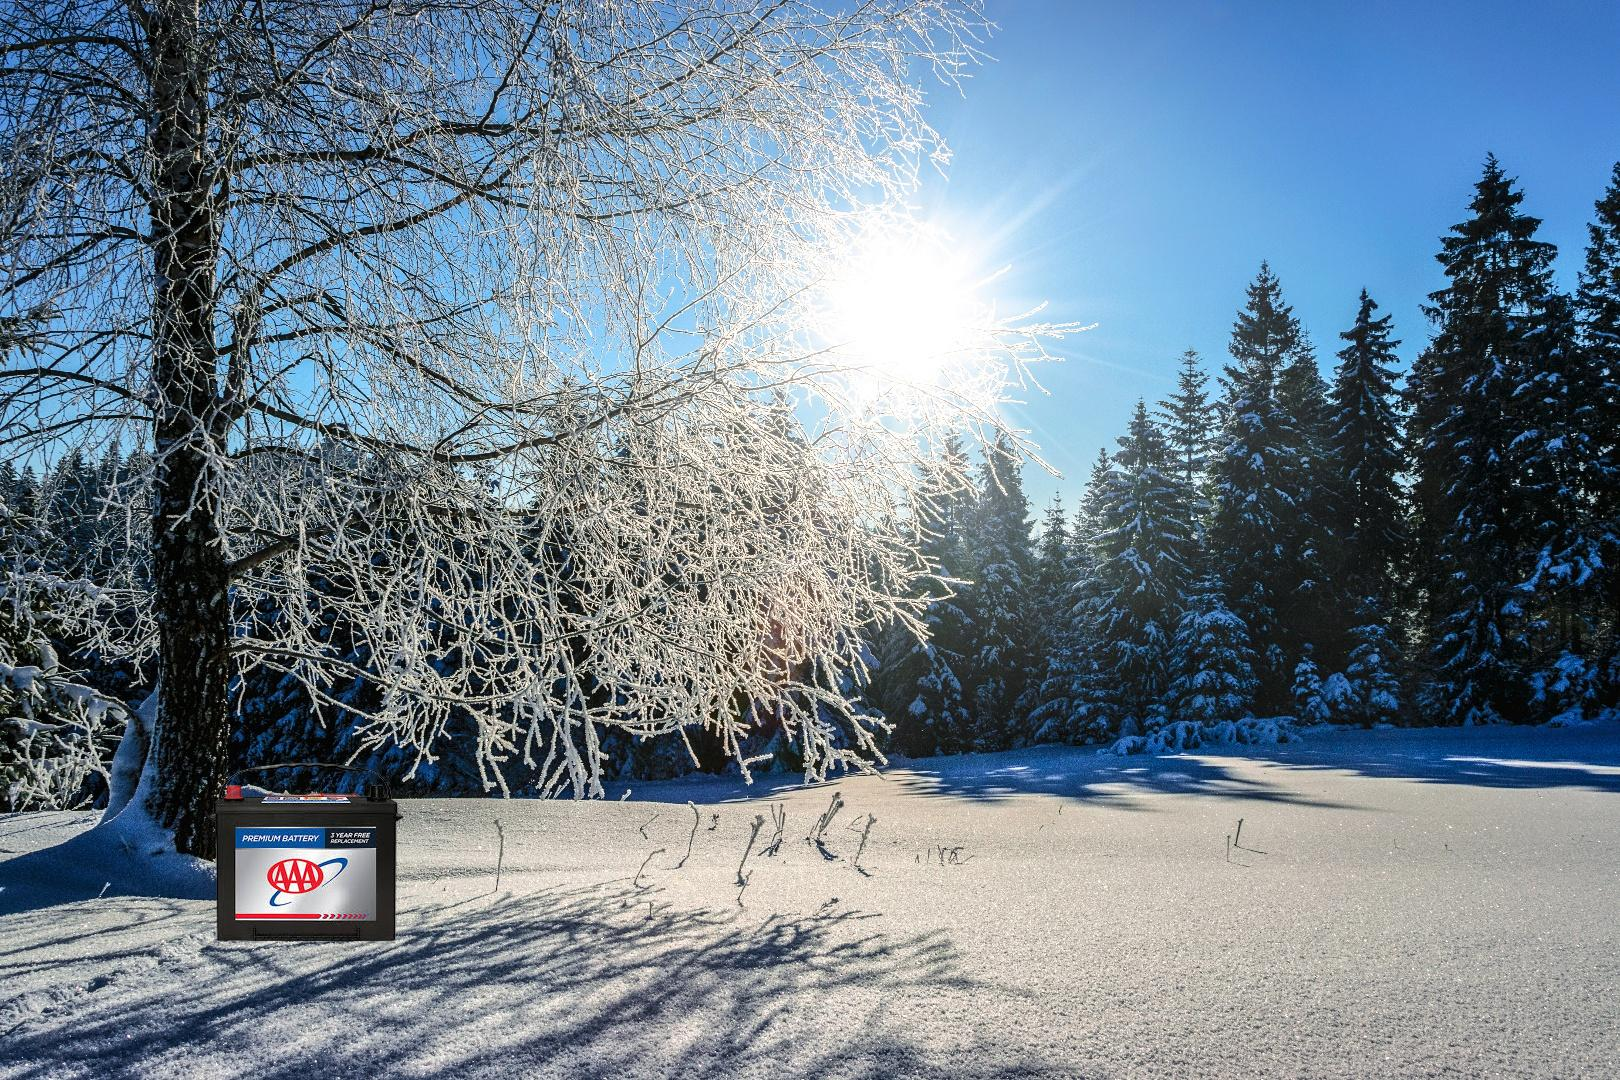battery: (205, 761, 406, 944)
